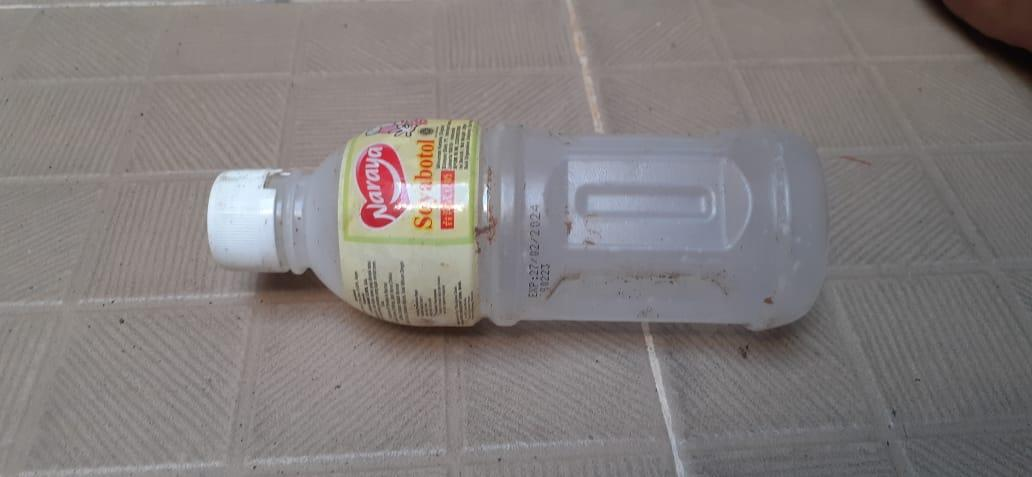Plastik: (207, 114, 828, 331)
